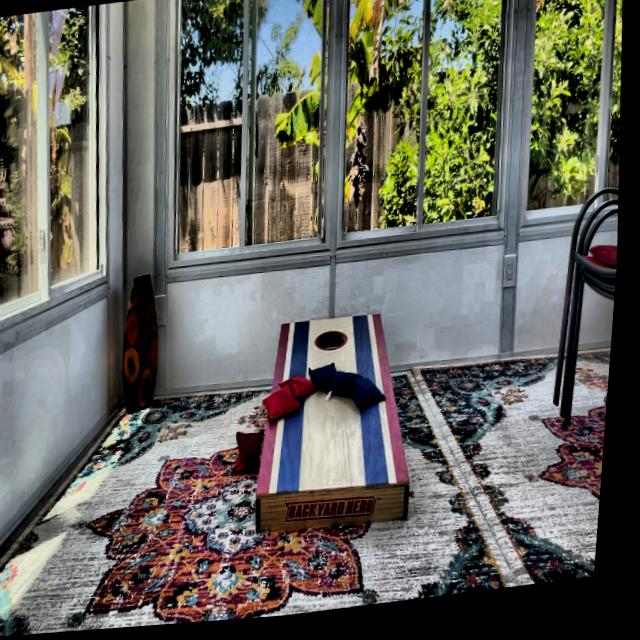blue-bean-bag: (327, 372, 374, 408), (353, 381, 393, 413), (313, 365, 347, 395)
board: (268, 315, 405, 500)
hole: (319, 333, 354, 357)
red-bean-bag: (236, 430, 272, 478), (265, 387, 308, 425), (282, 376, 324, 405)
